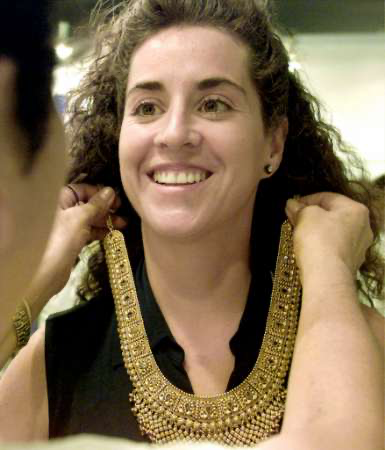Face: (117, 65, 266, 228)
